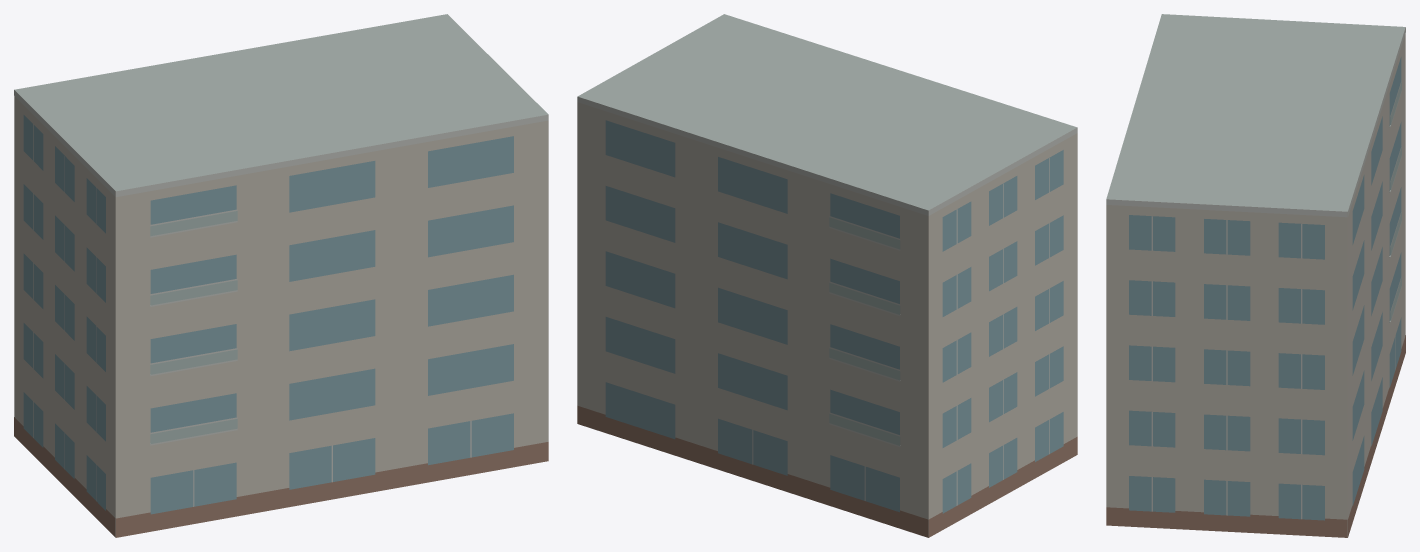
The model's file is survey-upis-32662489.glb.
3 renders of one model, left to right at view 1: azimuth 30°, elevation 25°; view 2: azimuth 150°, elevation 25°; view 3: azimuth 270°, elevation 25°, orthographic. The views are drawn at different scales.
Parts seen in each view (by area): view 1: survey-upis-32662489.tmp; view 2: survey-upis-32662489.tmp; view 3: survey-upis-32662489.tmp.
Boxes of the visible parts, x1,y1,x2,y2 form: survey-upis-32662489.tmp: [14, 14, 548, 537]; survey-upis-32662489.tmp: [577, 14, 1077, 537]; survey-upis-32662489.tmp: [1106, 14, 1405, 537].
Bounding box in the file's own units: 18.68 × 14.36 × 11.96.
